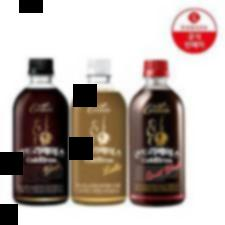contrabass_sweetblack: (129, 58, 189, 207)
